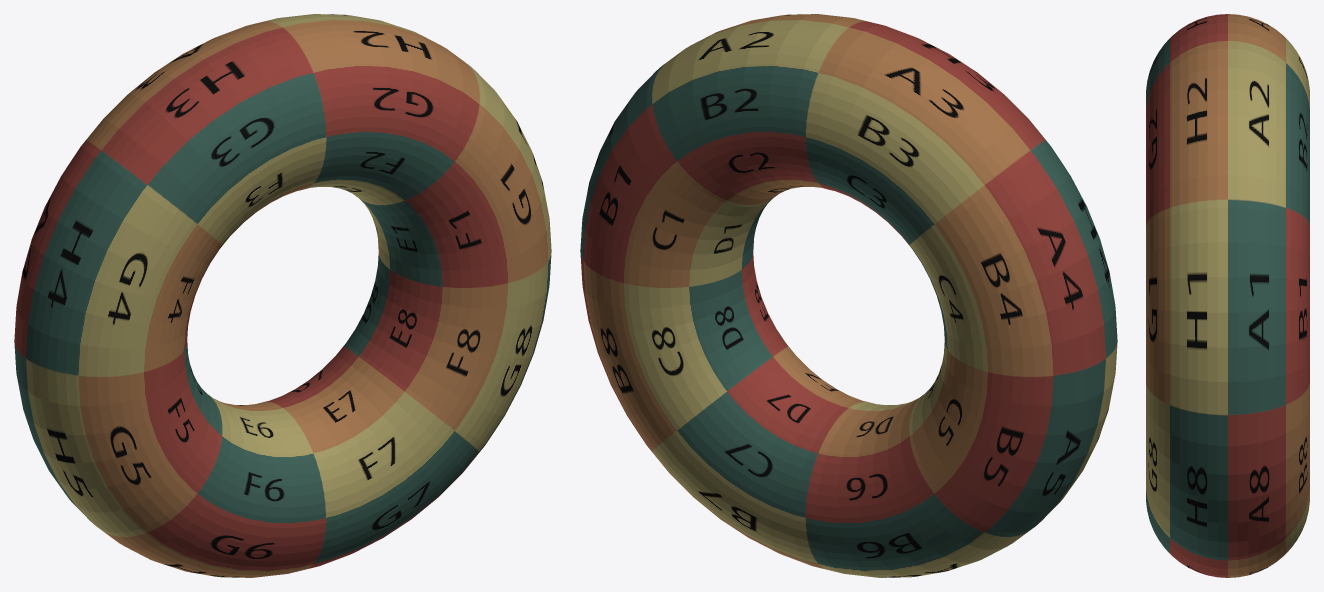
The model's file is texture_torus_R3_r11.glb.
The picture shows the model from 3 angles, left to right: view 1: azimuth 30°, elevation 25°; view 2: azimuth 150°, elevation 25°; view 3: azimuth 270°, elevation 25°; orthographic projection. The views are drawn at different scales.
Parts seen in each view (by area): view 1: world; view 2: world; view 3: world.
Boxes of the visible parts, <box> form: world: <box>14,14,551,577</box>; world: <box>580,14,1117,577</box>; world: <box>1146,14,1309,577</box>.
Bounding box in the file's own units: 16.93 × 16.9 × 4.92.
1 material, 1 textured.
